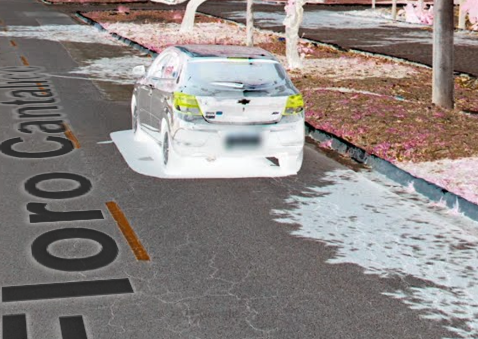car: (125, 41, 313, 176)
